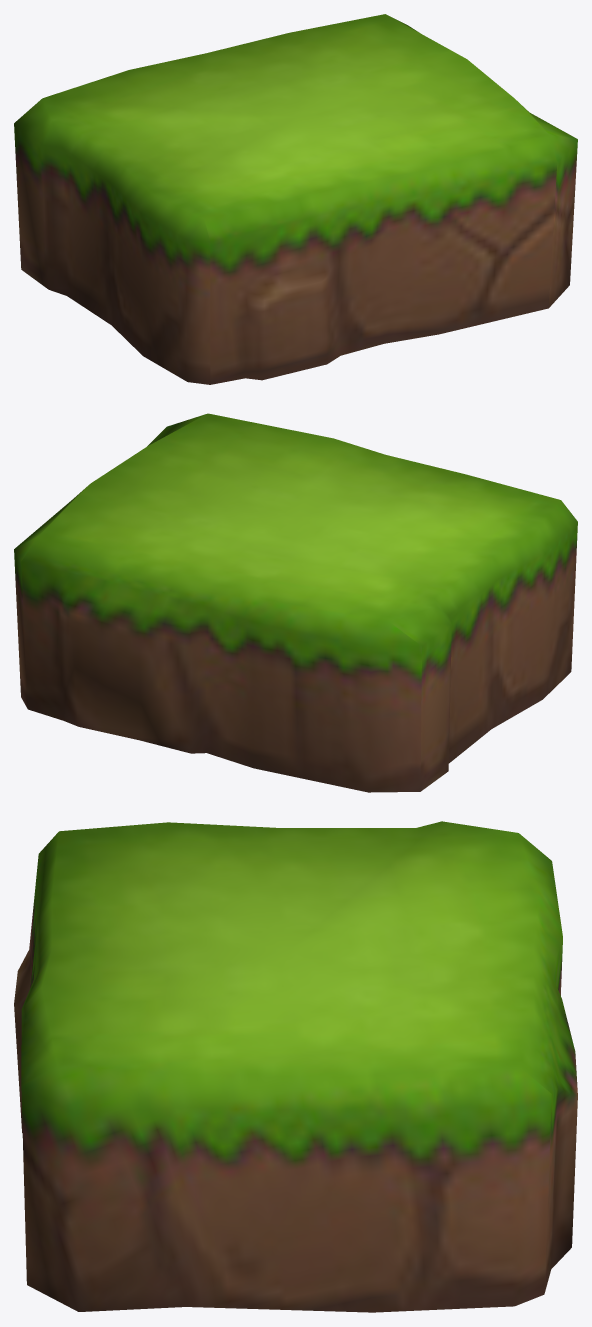
Rendered from island_Grass_M.FBX.
3 renders of one model, top to bottom at view 1: azimuth 30°, elevation 25°; view 2: azimuth 150°, elevation 25°; view 3: azimuth 270°, elevation 25°, orthographic. The views are drawn at different scales.
Parts seen in each view (by area): view 1: island_Grass_M; view 2: island_Grass_M; view 3: island_Grass_M.
Boxes of the visible parts, box(x1,y1,x2,y2) form: island_Grass_M: box(14, 14, 577, 384); island_Grass_M: box(14, 413, 577, 792); island_Grass_M: box(14, 821, 577, 1312).
Bounding box in the file's own units: 6.56 × 2.54 × 5.64.
